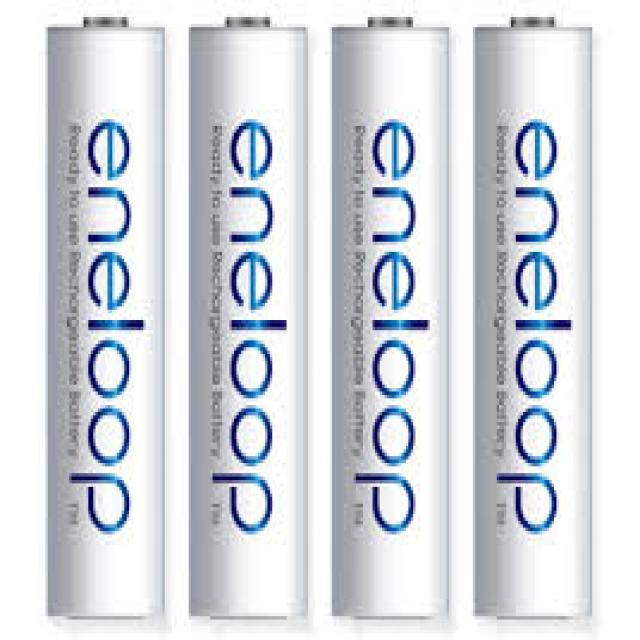non-organic waste: (329, 16, 453, 624), (40, 13, 163, 622), (469, 19, 590, 623), (188, 17, 308, 624)
